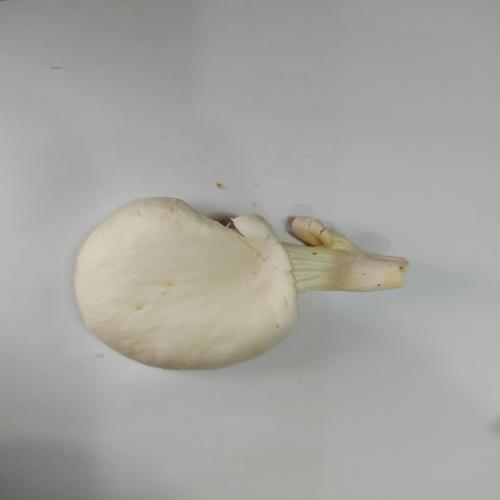Oyster Mushroom: (73, 195, 410, 371)
